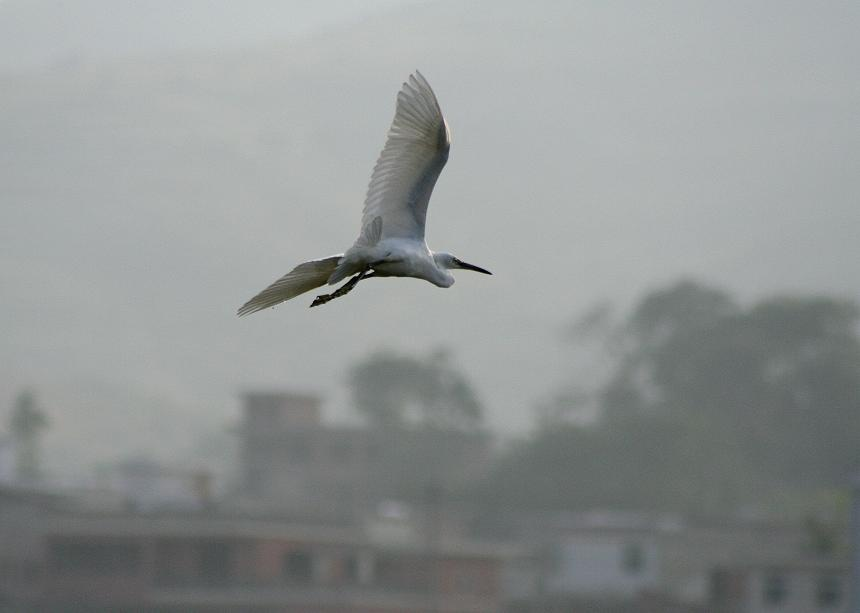bird: (235, 73, 494, 317)
